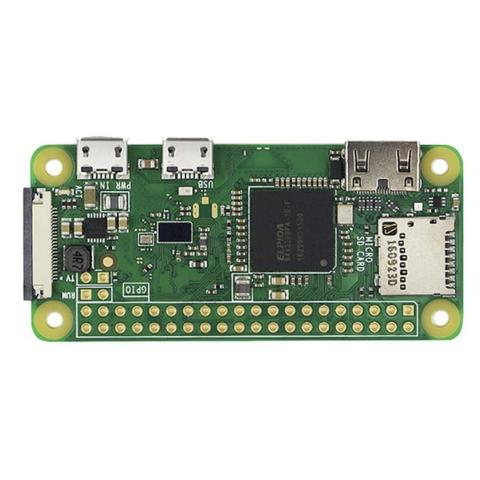Raspberry-Pi-Zero-W: (22, 135, 464, 341)
